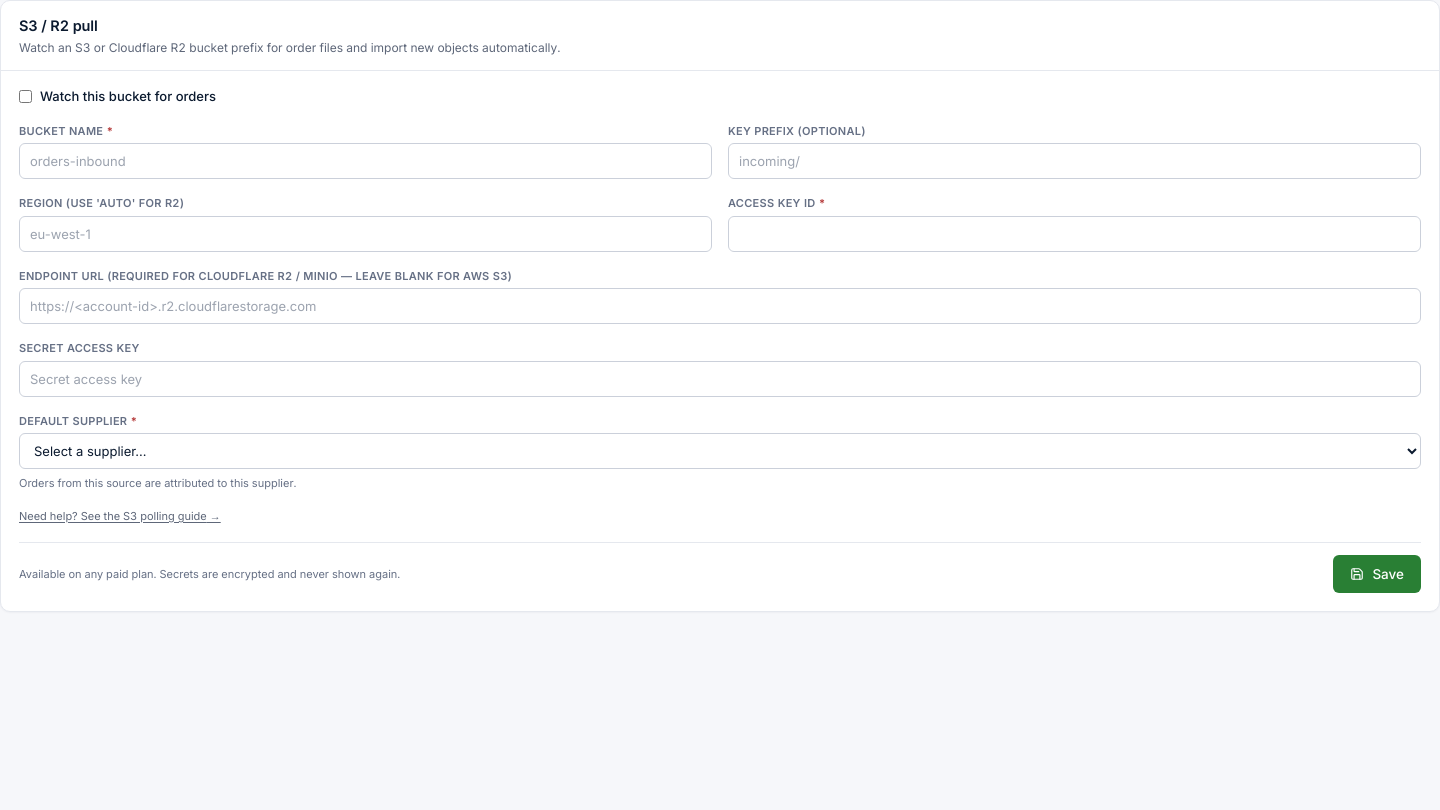
Scenario: s3 panel — a save failure is a sentence, not a status line › keeps its own client-side validation copy, which IS prose someone wrote
The width and height of the screenshot is (1440, 810).
Click the checkbox labelled "Watch this bucket for orders" at (26, 97), box left=19, top=90, right=32, bottom=103
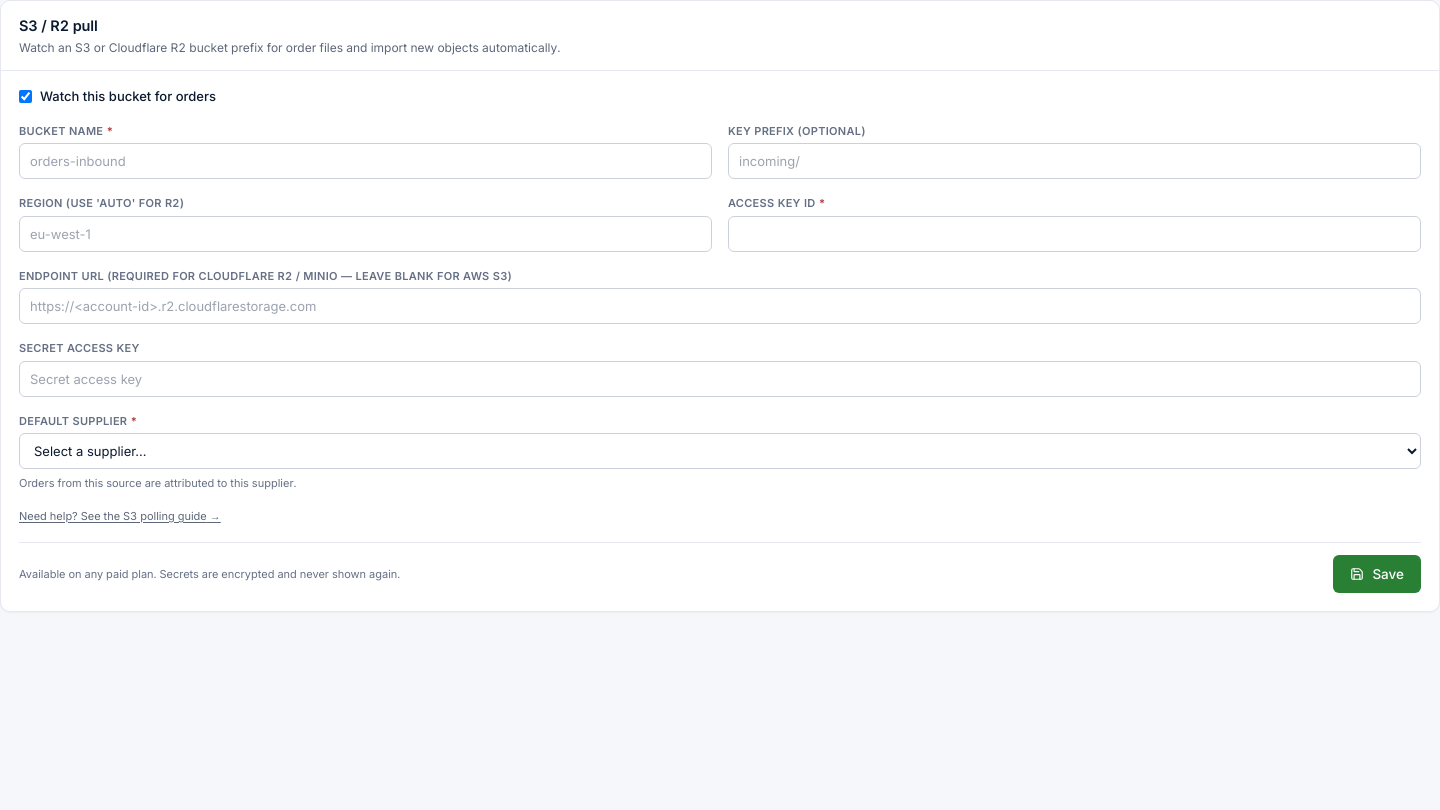
Click the button "Save" at (1377, 574), box left=1333, top=555, right=1421, bottom=593
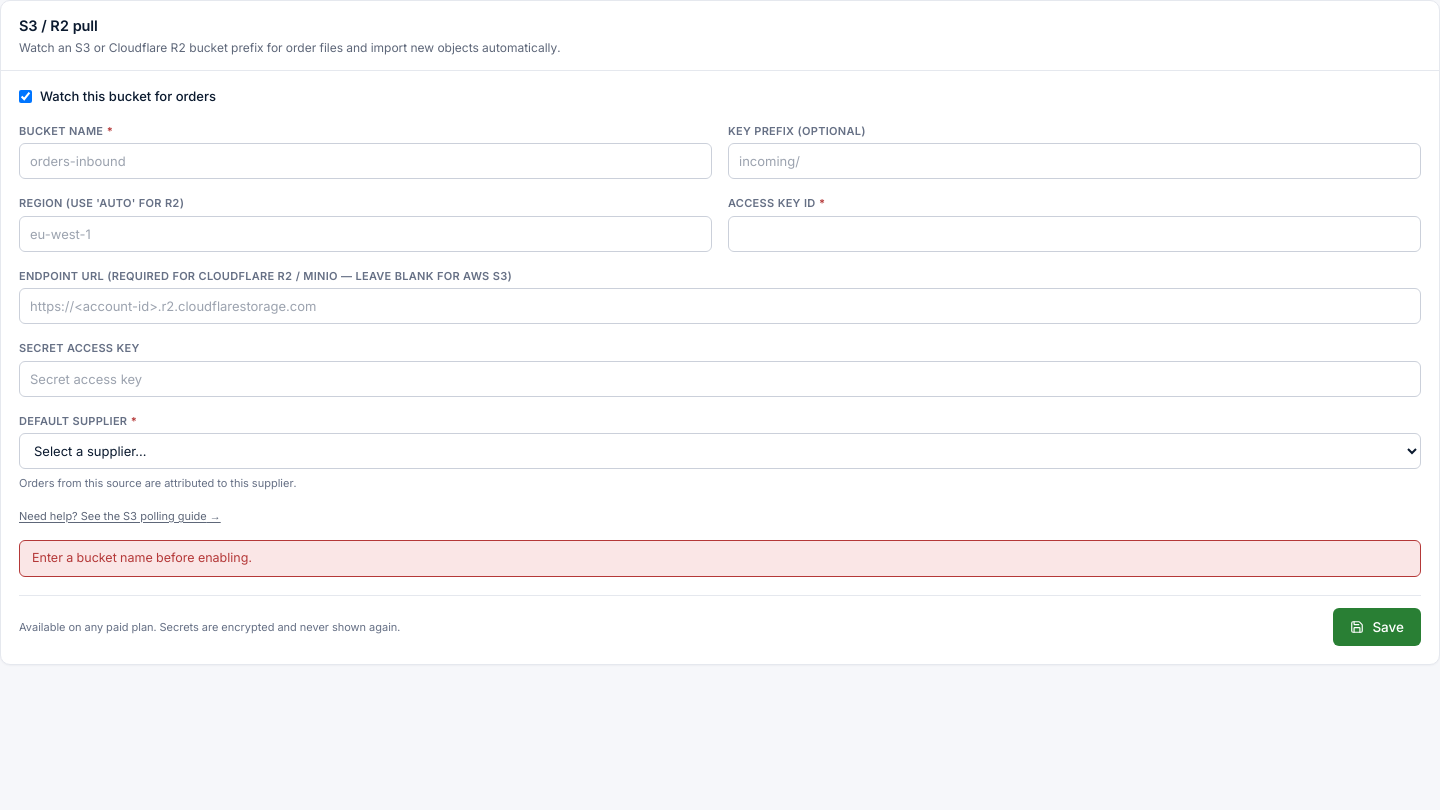
Now the message reads "Enter a bucket name before enabling.", box left=32, top=550, right=252, bottom=565
